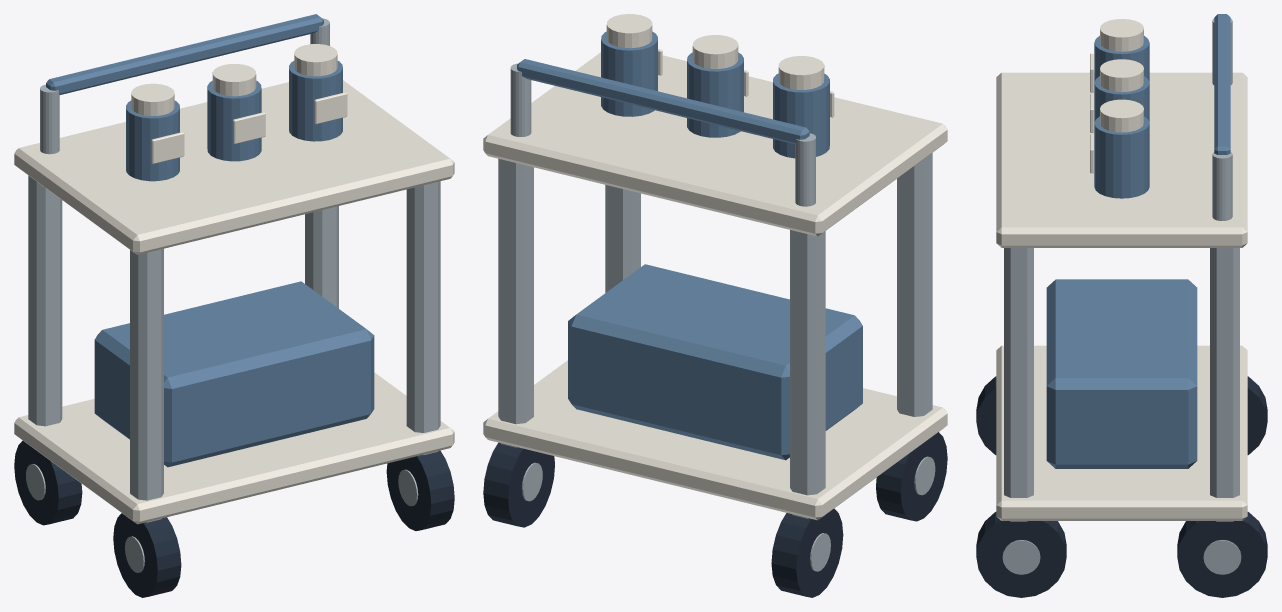
The model's file is lab_12.glb.
The picture shows the model from 3 angles, left to right: view 1: azimuth 30°, elevation 25°; view 2: azimuth 150°, elevation 25°; view 3: azimuth 270°, elevation 25°; orthographic projection. The views are drawn at different scales.
Visible parts, largest first — view 1: Shelf (×2), LowerSampleCase, Leg (×4), Wheel (×3), Bottle (×3), PushHandle, BottleCap (×3), Label (×3), HandlePost; view 2: Shelf (×2), LowerSampleCase, Leg (×4), Wheel (×3), Bottle (×3), PushHandle, BottleCap (×3), HandlePost (×2), WheelHub (×3); view 3: Shelf (×2), LowerSampleCase, Leg (×2), Wheel (×4), Bottle (×3), BottleCap (×3), PushHandle, WheelHub (×2), HandlePost (×2).
Part boxes in pixels (bbox=[...]): Shelf (×2): bbox=[14, 80, 454, 524]; LowerSampleCase: bbox=[94, 281, 374, 467]; Leg (×4): bbox=[28, 175, 440, 522]; Wheel (×3): bbox=[14, 440, 454, 597]; Bottle (×3): bbox=[126, 61, 342, 181]; PushHandle: bbox=[46, 14, 323, 94]; BottleCap (×3): bbox=[131, 44, 337, 115]; Label (×3): bbox=[151, 92, 347, 163]; HandlePost: bbox=[40, 84, 59, 154]; Shelf (×2): bbox=[483, 52, 947, 520]; LowerSampleCase: bbox=[568, 264, 862, 460]; Leg (×4): bbox=[498, 153, 932, 518]; Wheel (×3): bbox=[483, 432, 947, 597]; Bottle (×3): bbox=[601, 31, 829, 158]; PushHandle: bbox=[517, 59, 809, 144]; BottleCap (×3): bbox=[606, 14, 824, 89]; HandlePost (×2): bbox=[510, 63, 815, 206]; WheelHub (×3): bbox=[521, 456, 935, 571]; Shelf (×2): bbox=[996, 72, 1247, 520]; LowerSampleCase: bbox=[1046, 279, 1197, 468]; Leg (×2): bbox=[1004, 248, 1239, 521]; Wheel (×4): bbox=[976, 376, 1267, 597]; Bottle (×3): bbox=[1094, 35, 1149, 198]; BottleCap (×3): bbox=[1100, 19, 1143, 132]; PushHandle: bbox=[1214, 14, 1230, 154]; WheelHub (×2): bbox=[1002, 540, 1241, 574]; HandlePost (×2): bbox=[1212, 18, 1232, 220].
Bounding box in the file's own units: 0.75 × 1 × 0.58.
